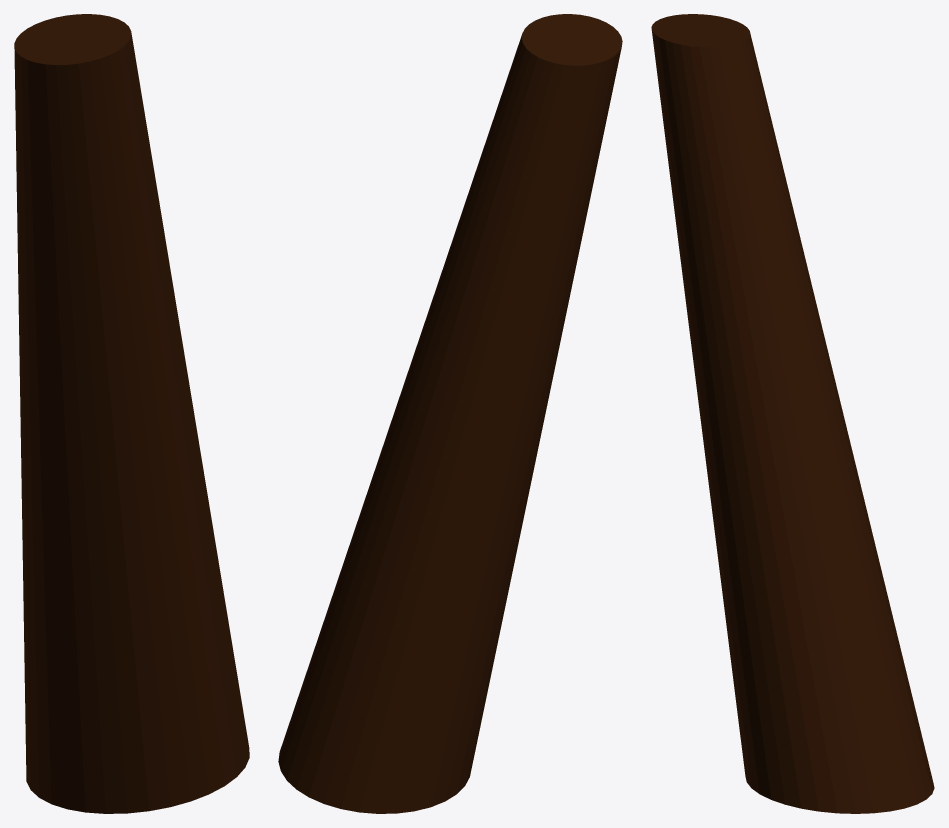
The model's file is tronco2.fbx.
3 views of the same model, side by side, from view 1: azimuth 30°, elevation 25°; view 2: azimuth 150°, elevation 25°; view 3: azimuth 270°, elevation 25° (orthographic). The views are drawn at different scales.
Visible parts, largest first — view 1: Cylinder.007; view 2: Cylinder.007; view 3: Cylinder.007.
Boxes of the visible parts, x1,y1,x2,y2 form: Cylinder.007: [14, 14, 249, 813]; Cylinder.007: [278, 14, 622, 813]; Cylinder.007: [651, 14, 934, 813].
Bounding box in the file's own units: 526 × 1427 × 519.
